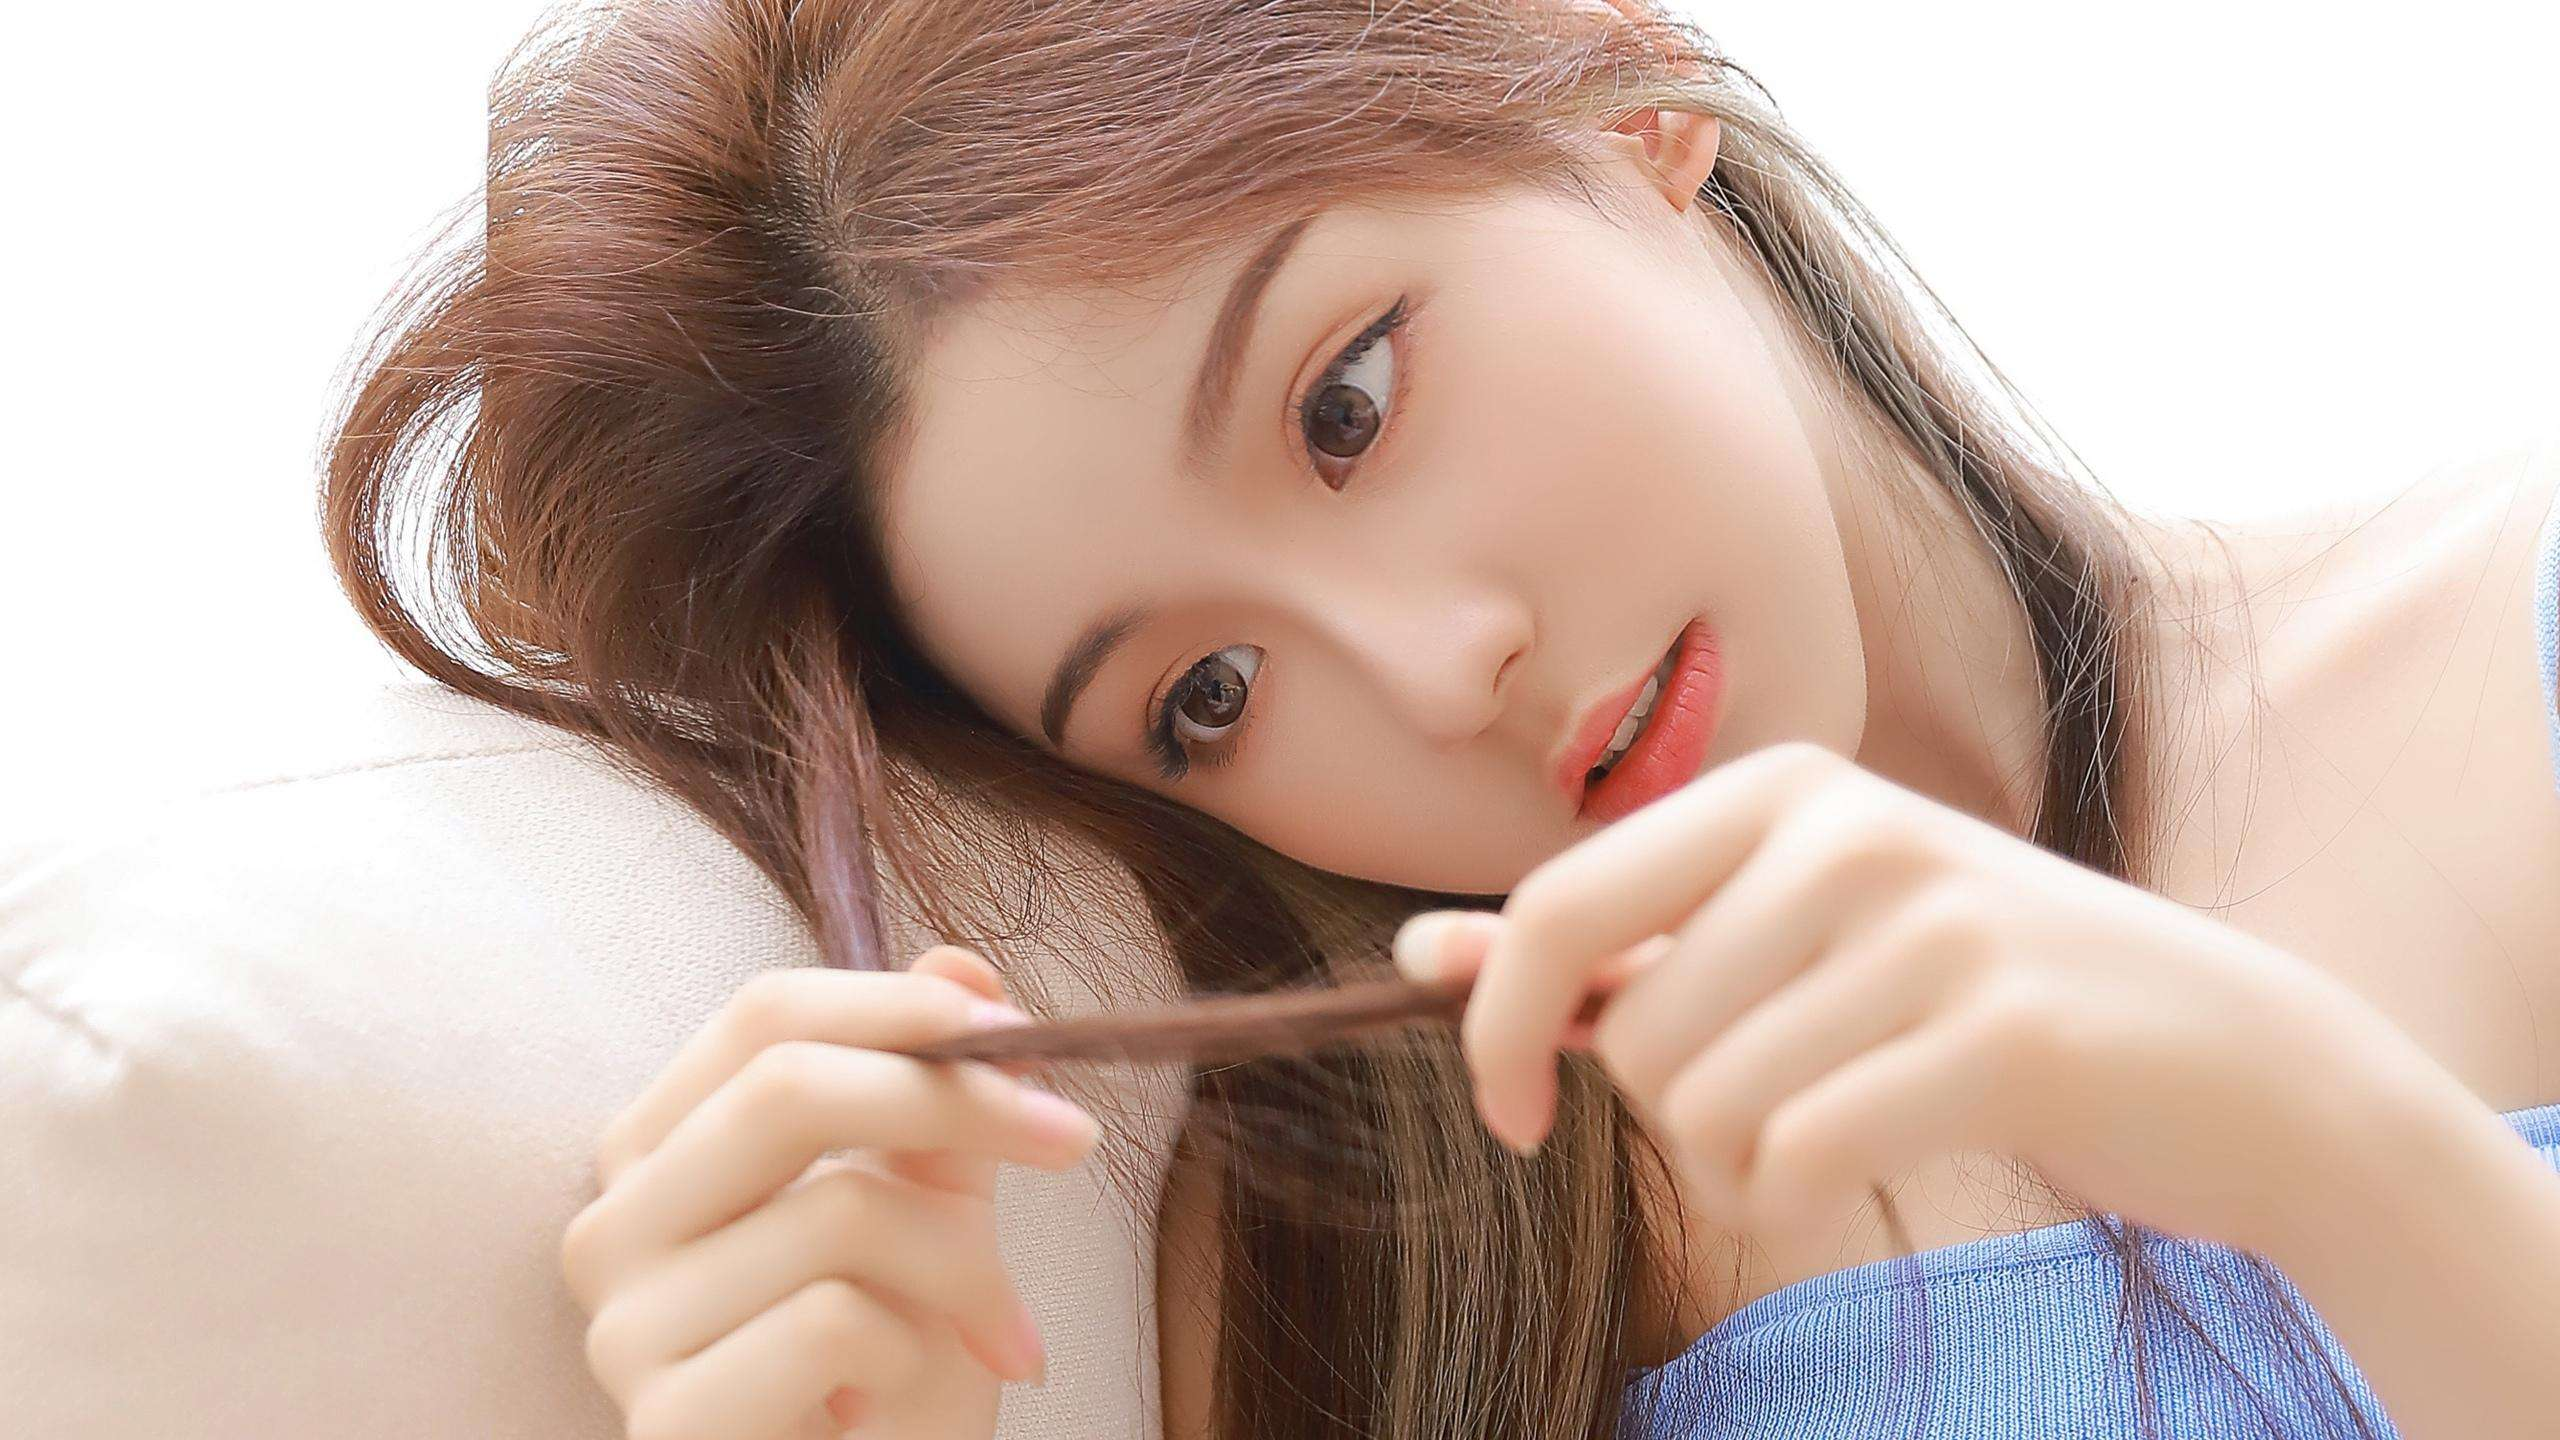person: (418, 72, 2461, 1225)
